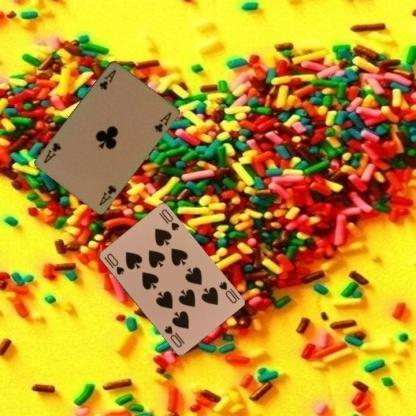10s: (100, 251, 126, 276), (216, 280, 238, 304)
Ac: (96, 66, 118, 91), (96, 182, 118, 207)
